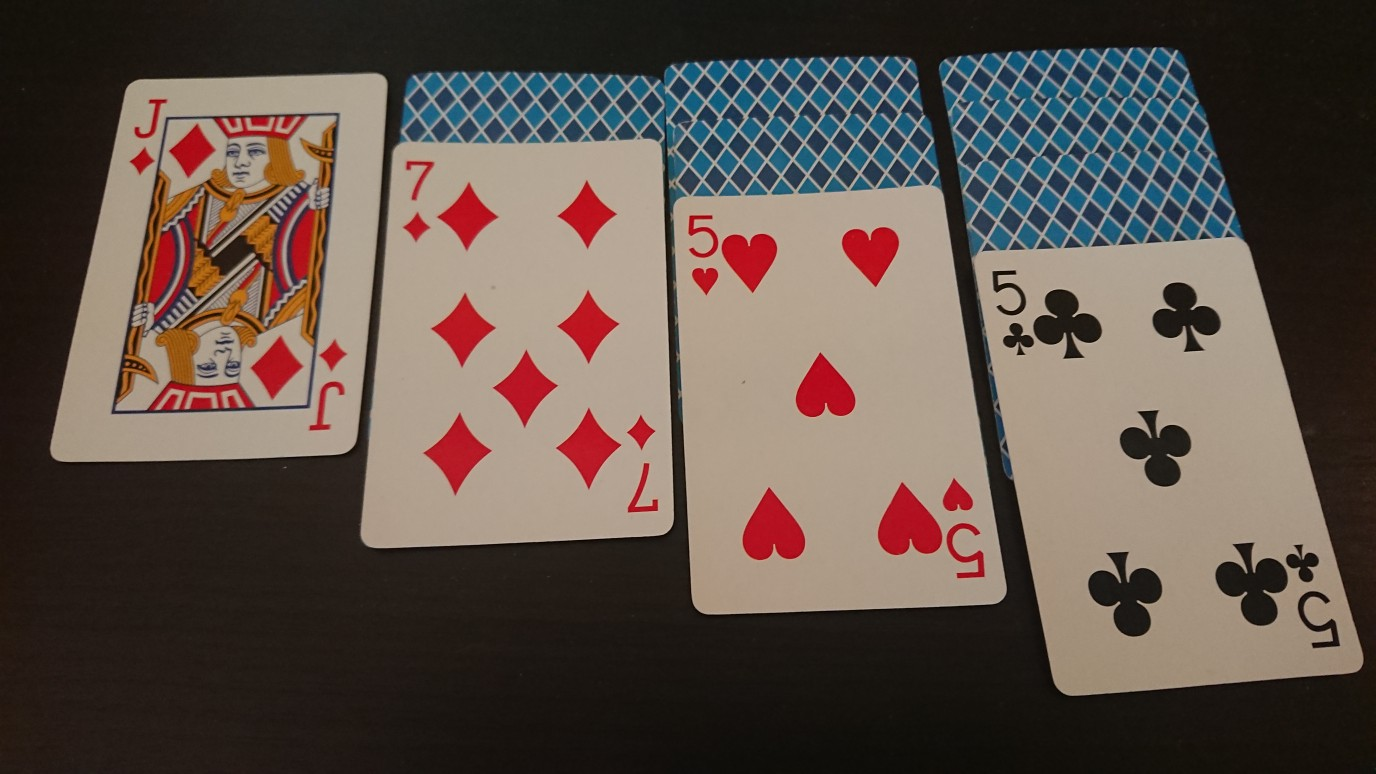5C: (989, 266, 1035, 360)
5H: (682, 210, 720, 298)
7D: (398, 158, 436, 245)
BACK: (959, 159, 1248, 248), (673, 115, 939, 195), (398, 70, 664, 144), (945, 97, 1220, 158), (938, 48, 1203, 105), (666, 57, 925, 115)
JD: (125, 92, 168, 179)
